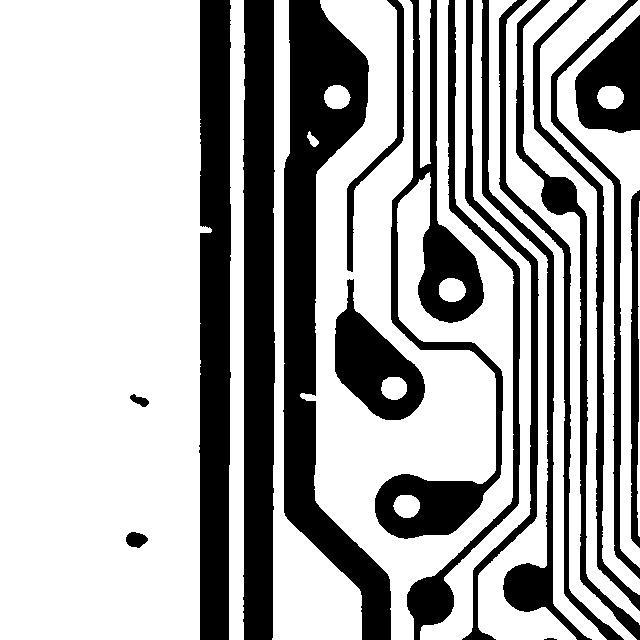copper: (116, 522, 157, 557), (120, 384, 158, 416)
mousebite: (290, 383, 326, 410), (187, 216, 221, 242)
open: (330, 260, 364, 289)
pin-hole: (297, 121, 328, 156)
short: (404, 154, 443, 189)
